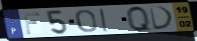5: (44, 8, 70, 35)
D: (148, 5, 176, 31)
F: (21, 11, 41, 35)
I: (98, 8, 110, 33)
O: (74, 9, 99, 34)
Q: (125, 5, 155, 33)
